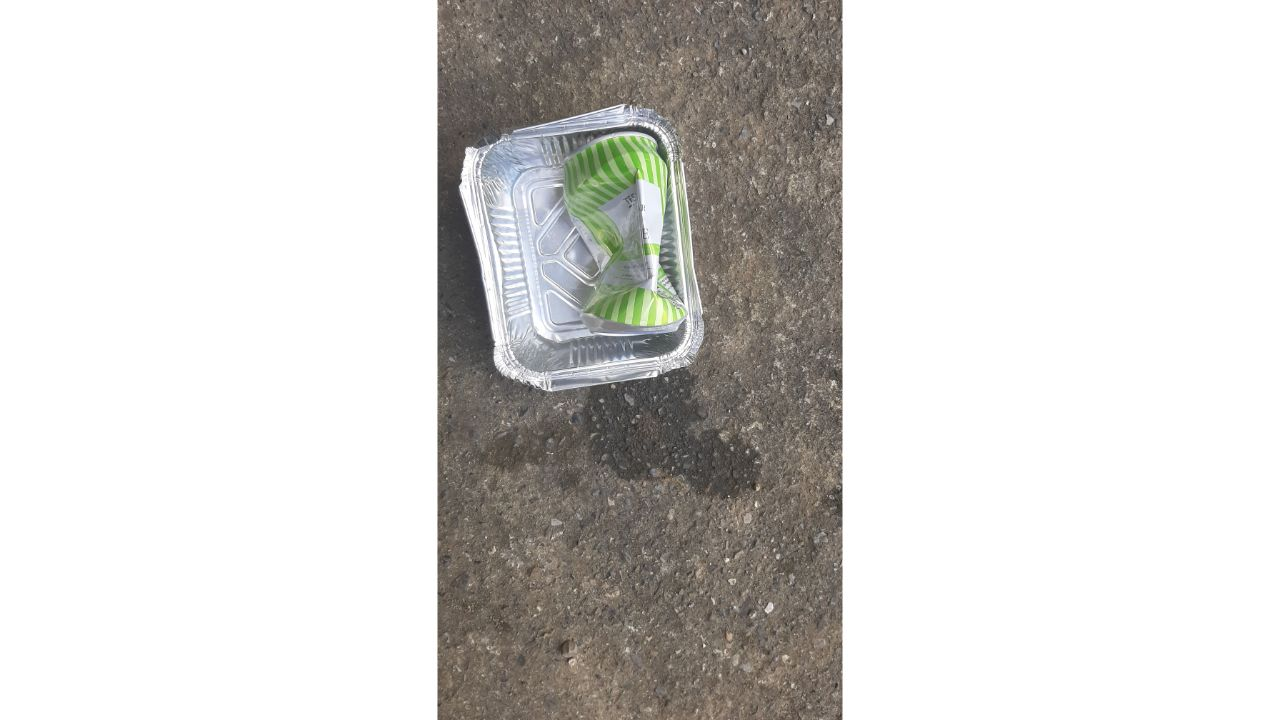Can: (553, 125, 699, 345)
